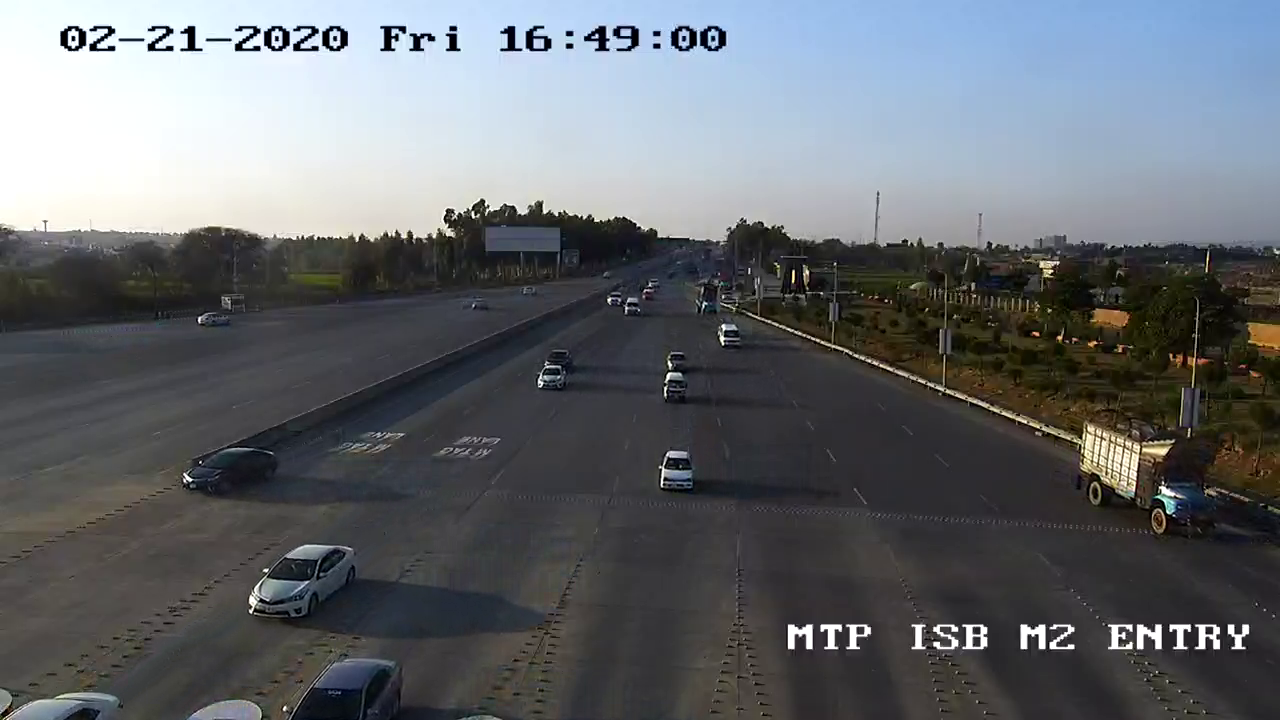f1: (239, 538, 365, 631), (174, 444, 286, 503), (654, 447, 702, 498)
f5: (1066, 401, 1234, 551)
